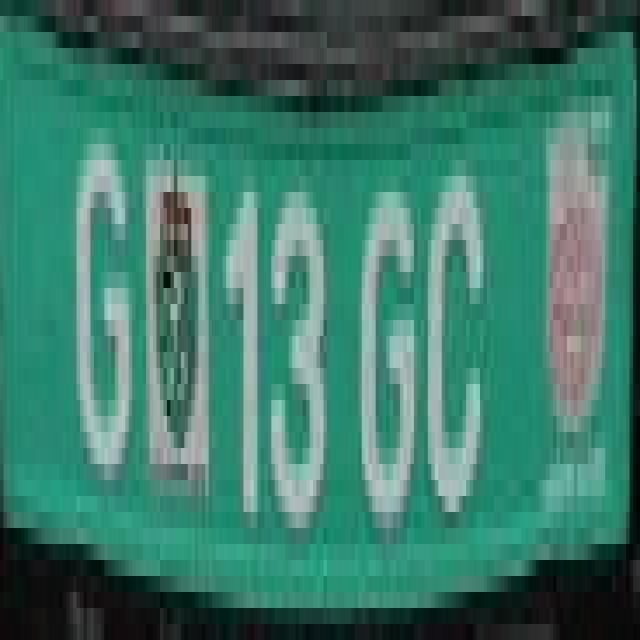1: (223, 160, 264, 560)
3: (264, 144, 327, 560)
C: (424, 160, 487, 528)
G: (66, 128, 136, 512), (355, 160, 414, 560)
